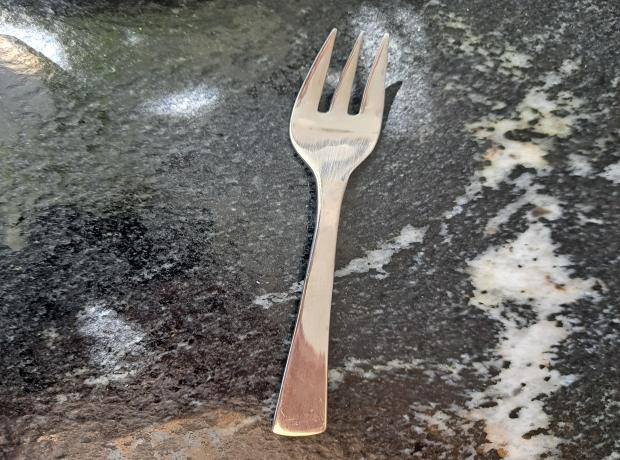metal: (273, 23, 392, 440)
